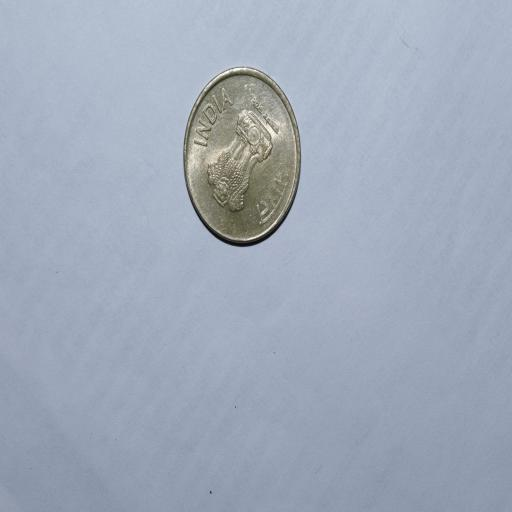rupee5: (180, 65, 301, 248)
